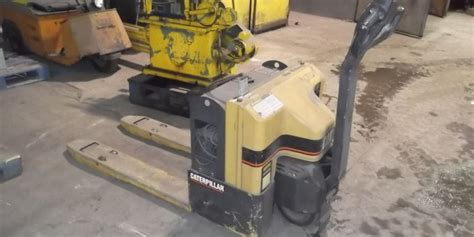Pallet Jack: (66, 2, 406, 237)
